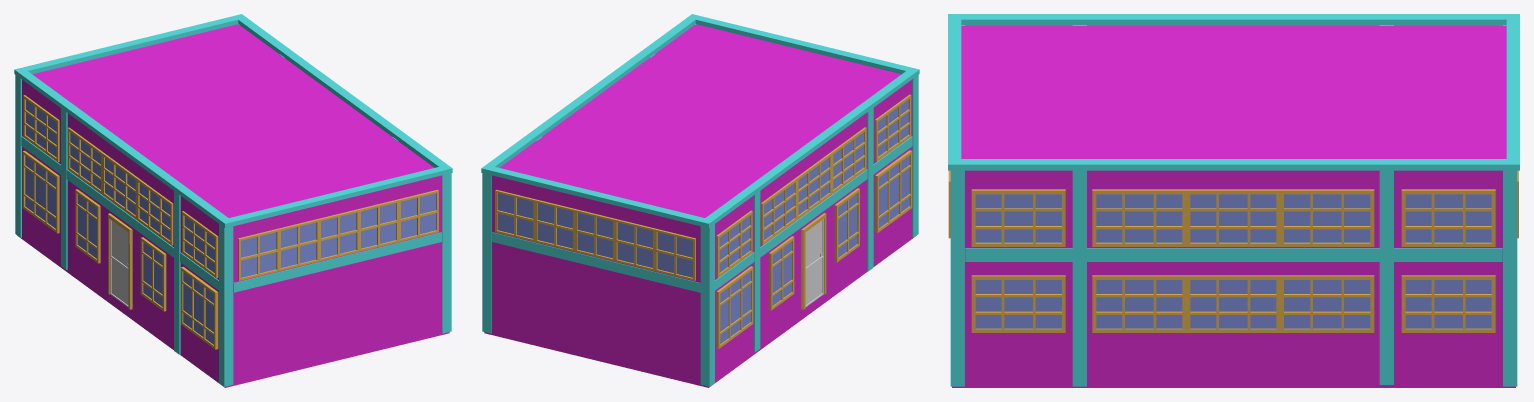
File: guz_house.fbx
3 renders of one model, left to right at view 1: azimuth 30°, elevation 25°; view 2: azimuth 150°, elevation 25°; view 3: azimuth 270°, elevation 25°, orthographic. The views are drawn at different scales.
Parts seen in each view (by area): view 1: Куб.136; view 2: Куб.136; view 3: Куб.136.
Boxes of the visible parts, left/top/right/bottom form: Куб.136: left=14, top=14, right=452, bottom=387; Куб.136: left=481, top=14, right=919, bottom=387; Куб.136: left=948, top=14, right=1519, bottom=387.
Bounding box in the file's own units: 525 × 363 × 837.
